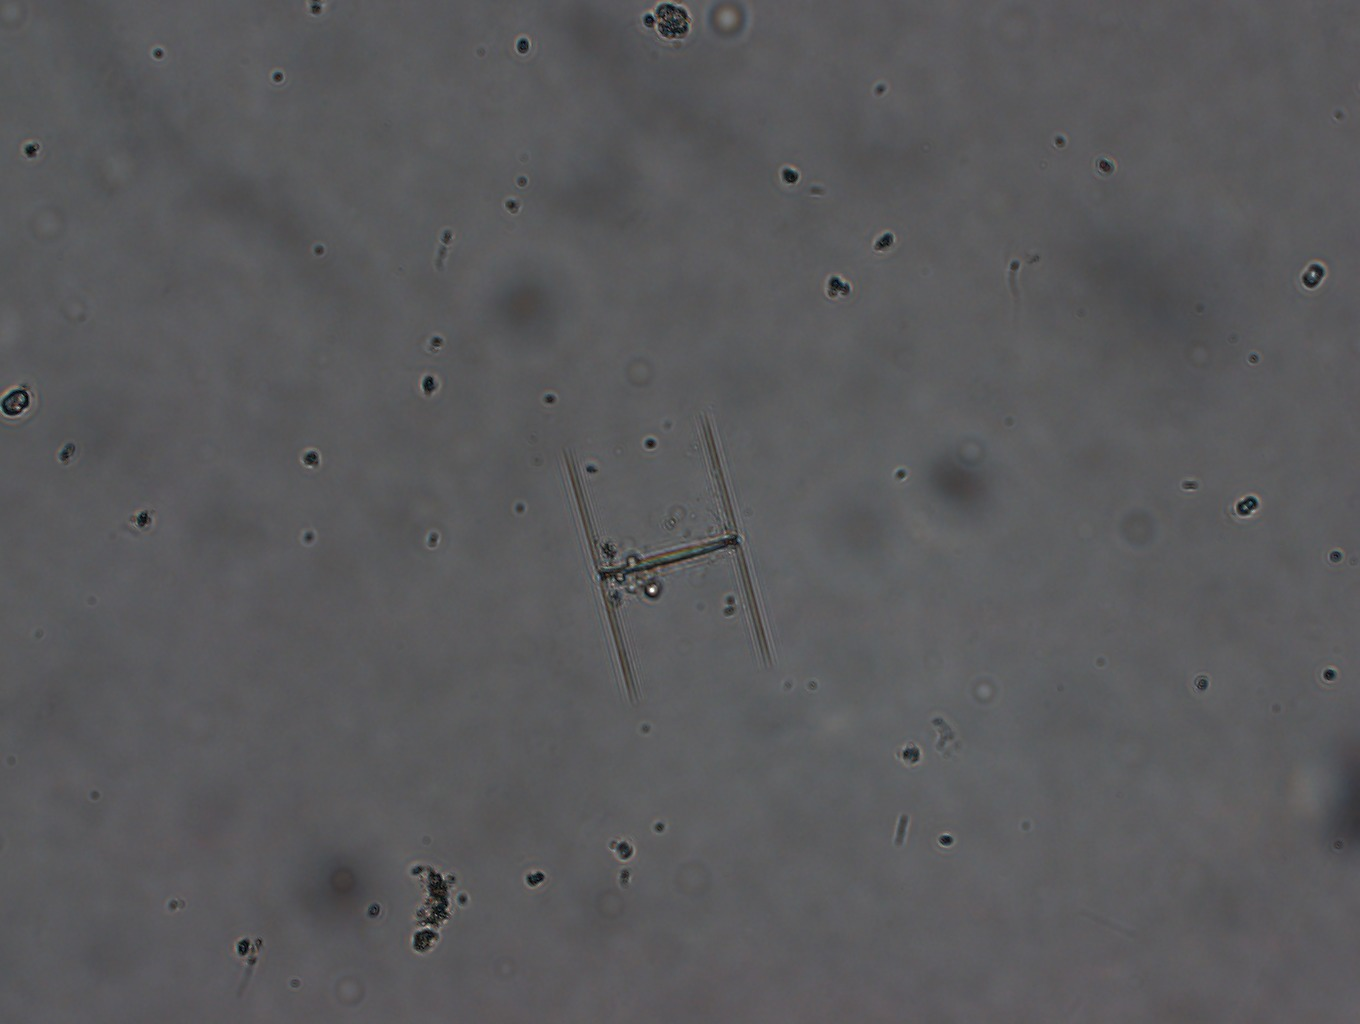guinardia flaccida: (560, 413, 774, 706)
